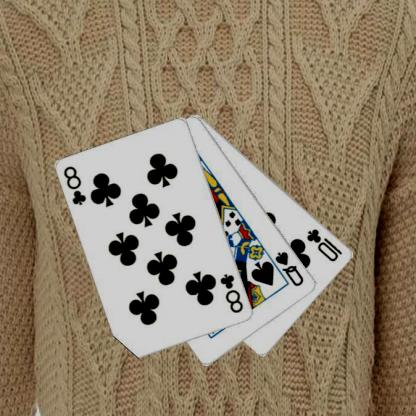10C: (304, 225, 344, 263)
8C: (217, 271, 245, 315), (61, 164, 88, 206)
QS: (273, 249, 305, 288)
